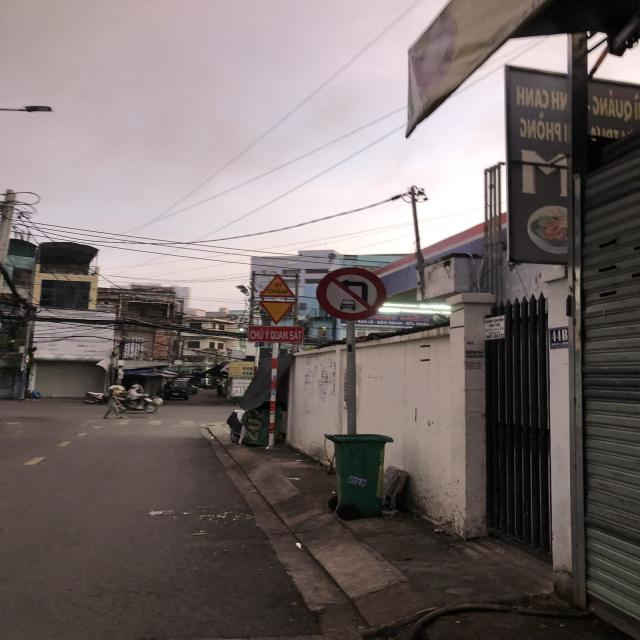Bien bao cam xe o to re trai: (313, 264, 393, 324)
Bien bao di cham: (256, 272, 302, 300)
Bien bao giao nhau voi duong uu tien: (256, 298, 298, 328)
